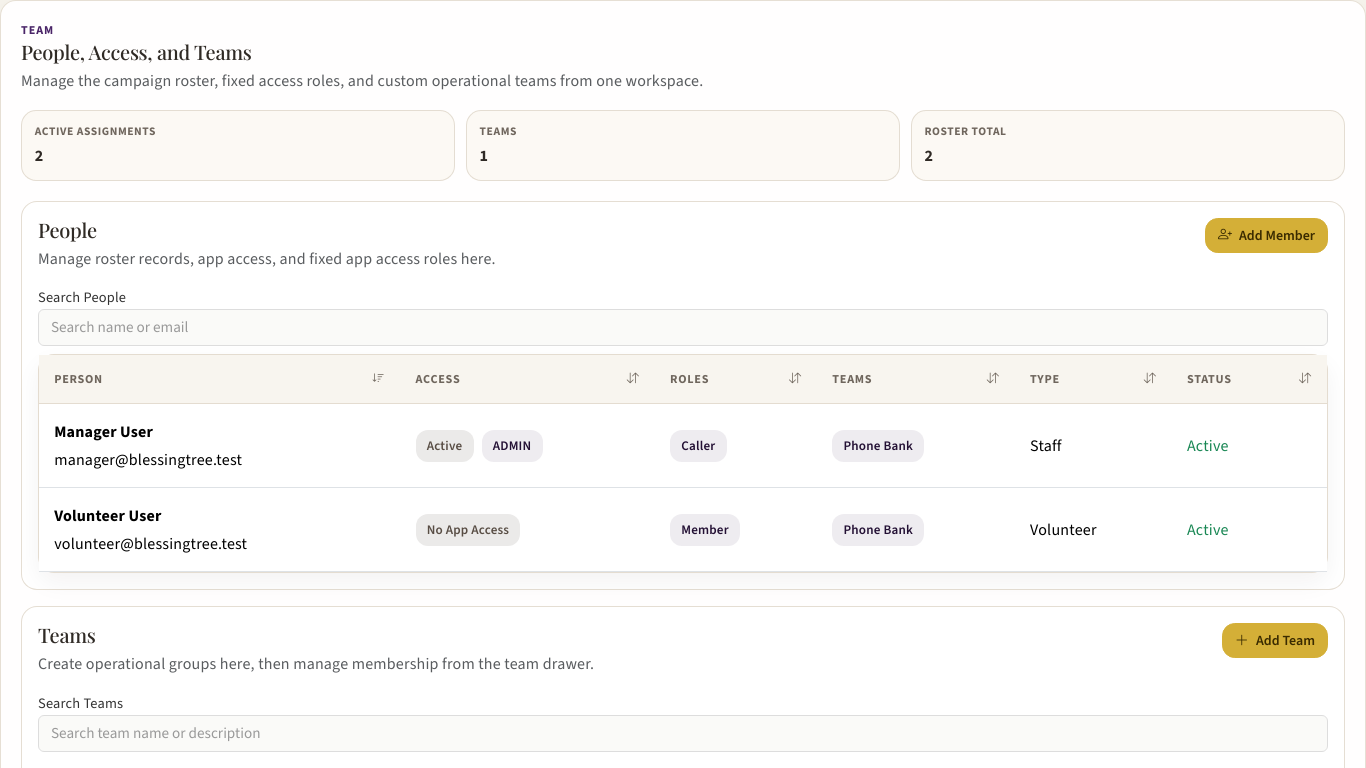
CampaignStudioTeamSection › shows inline Team glossary help inside the person drawer
Check: the text "campaign-level roster label such as staff, volunteer, contact, or external" is not shown
What coordinates should you click on to do the following:
click the button "Volunteer User"
I would click on:
 (683, 530)
Its box is [39, 488, 1327, 572].
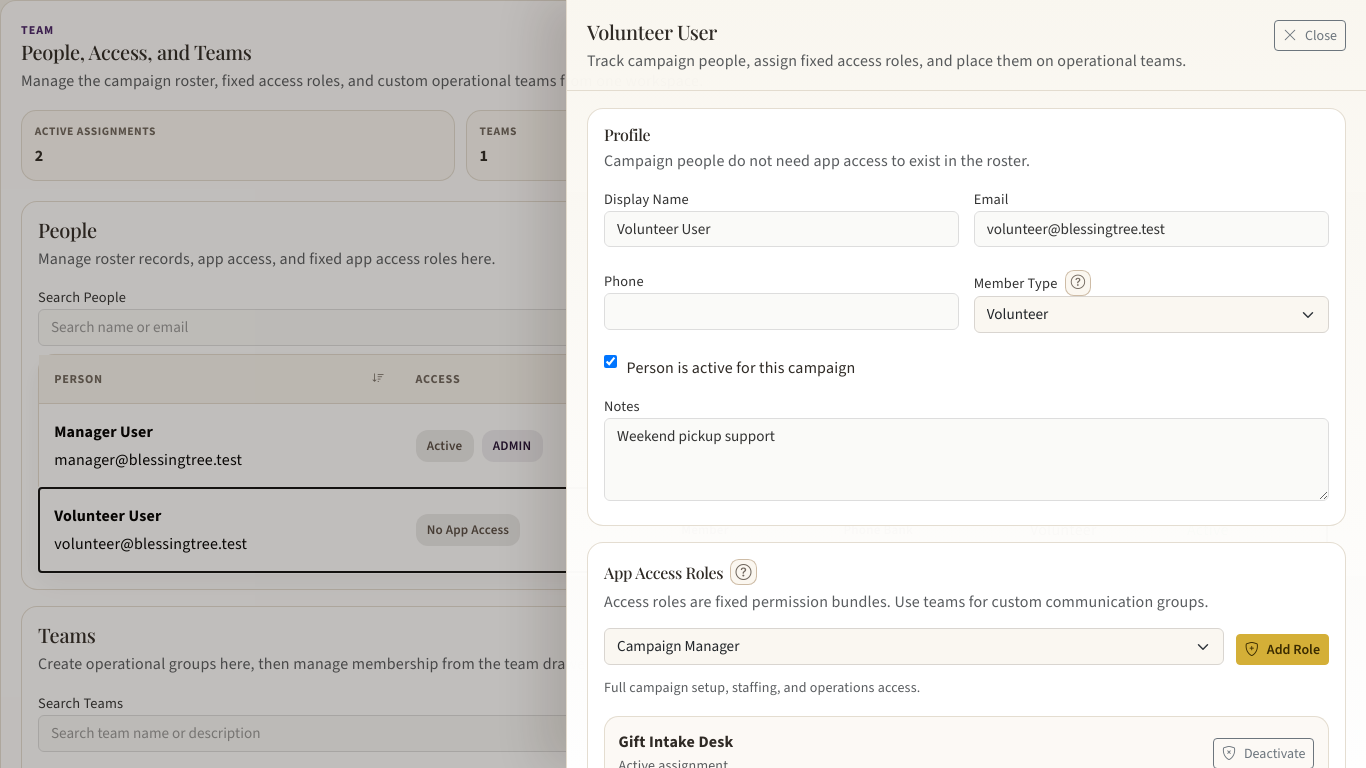
Check: the dialog is shown, box [566, 0, 1365, 767]
What coordinates should you click on to do the following:
click the button named "help: member type"
I would click on:
 (1078, 283)
Its box is [1065, 270, 1091, 296].
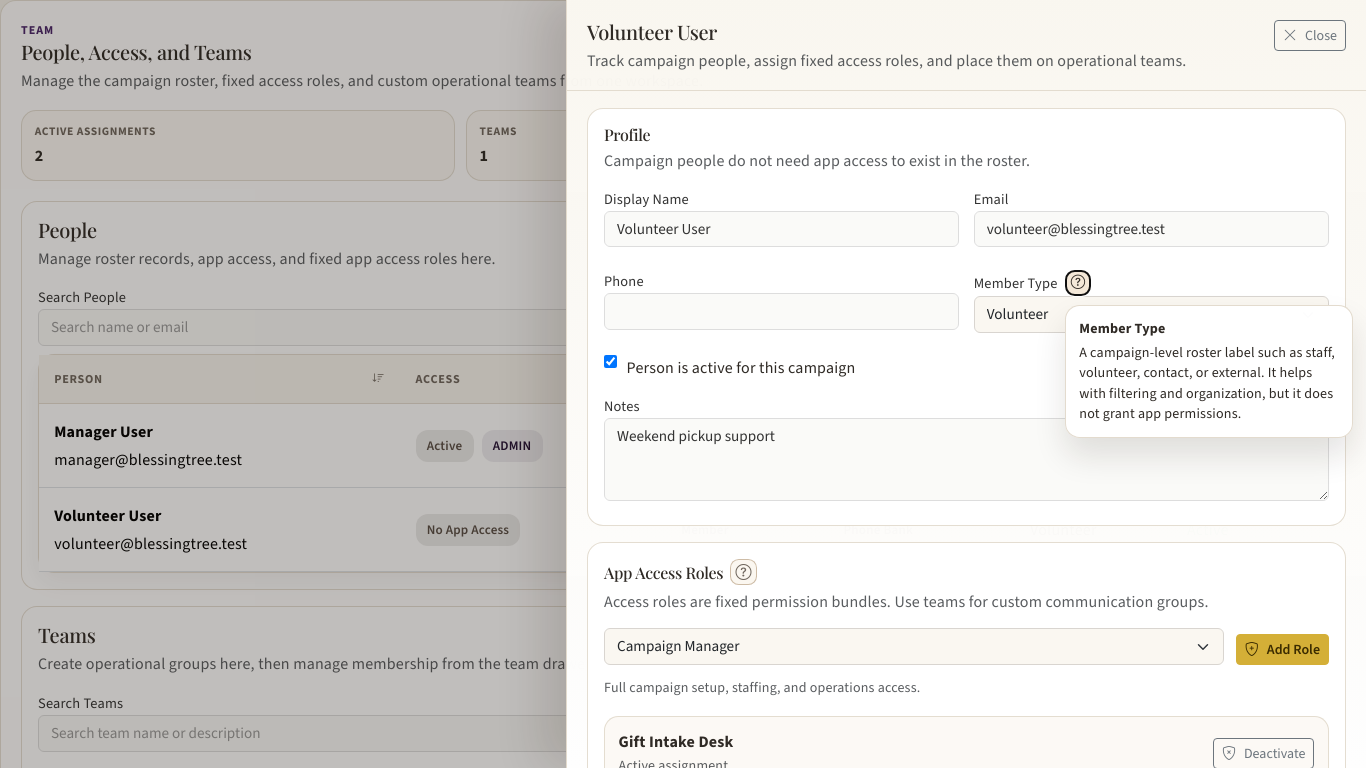
Check: the text "campaign-level roster label such as staff, volunteer, contact, or external" is shown, box [1079, 343, 1335, 423]
